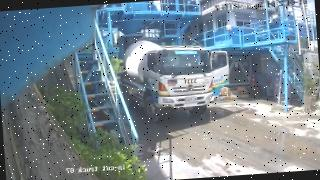cement_mixer_truck: (116, 40, 228, 122)
